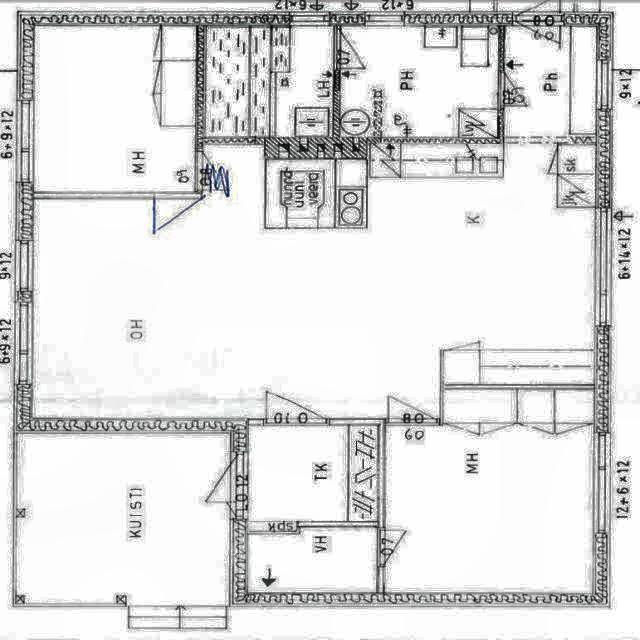room: (385, 388, 594, 593), (34, 26, 196, 192), (341, 26, 499, 138), (206, 27, 333, 137), (249, 426, 377, 530), (247, 527, 376, 593), (445, 385, 591, 388)
